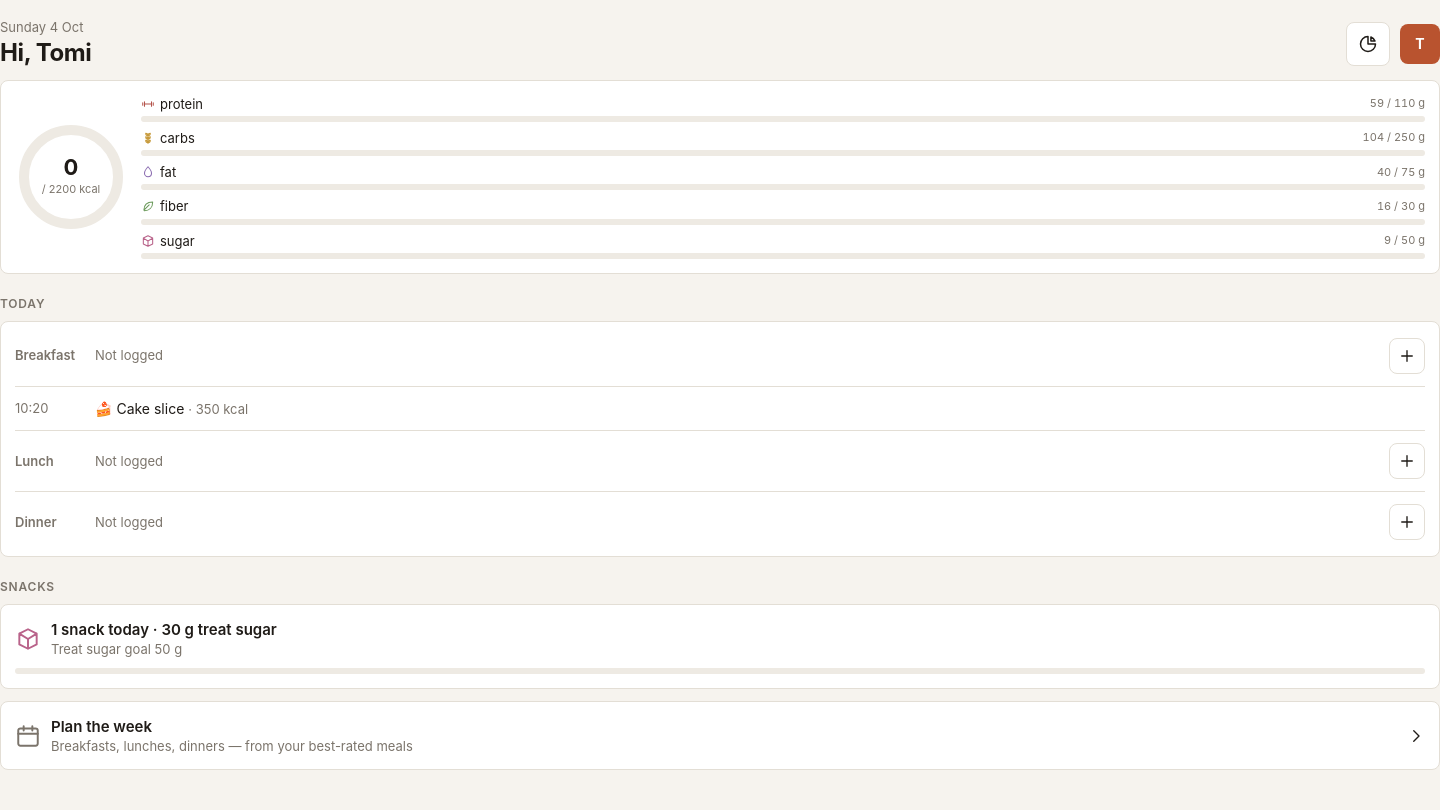
Test: HomePage › changes a logged snack's amount and values, or removes an entry
This screenshot has width=1440, height=810.
Click the button "10:20 🍰 Cake slice · 350 kcal" at (32, 408), box x1=15 y1=386 x2=1425 y2=431
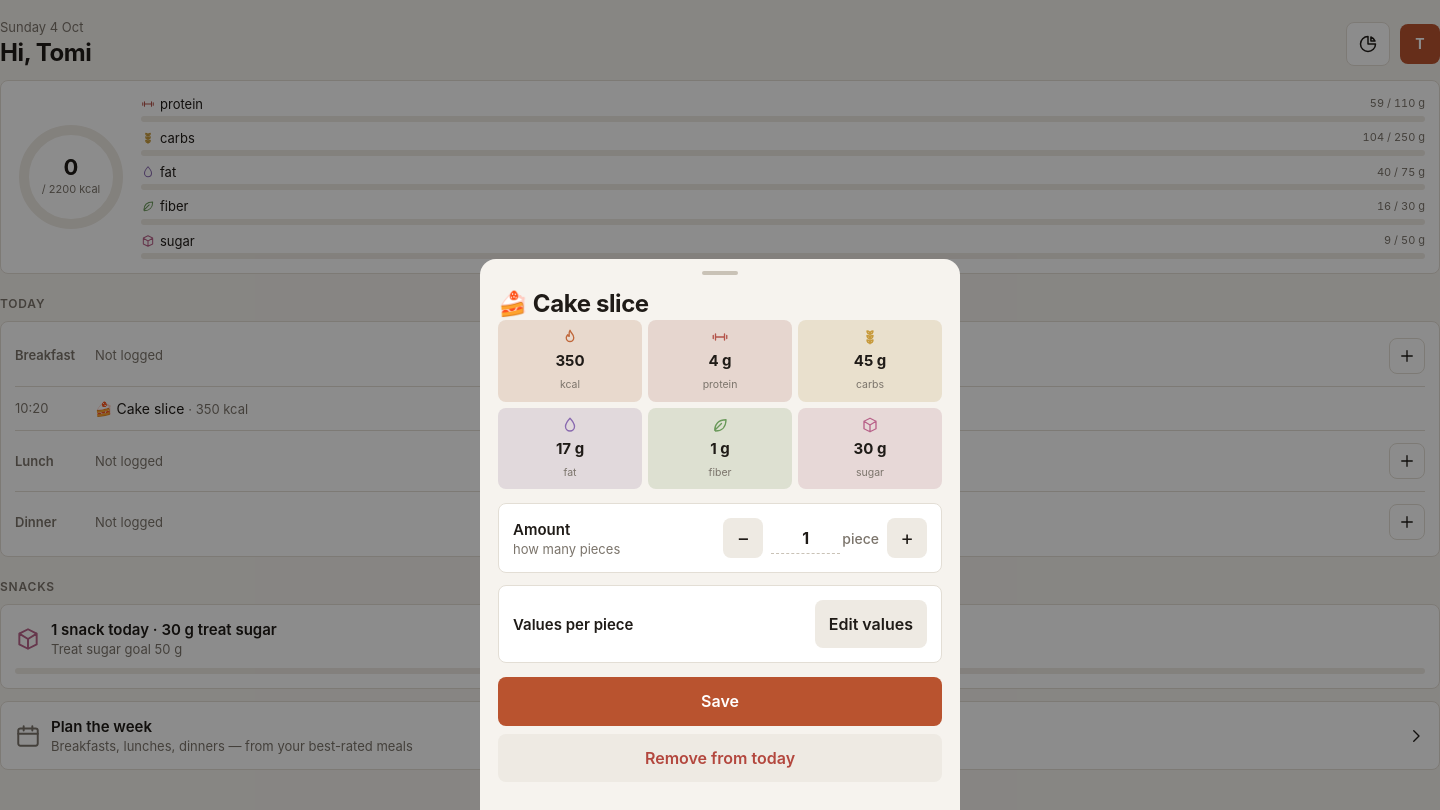
Click the button "Edit values" at (871, 624), box x1=815 y1=600 x2=927 y2=648
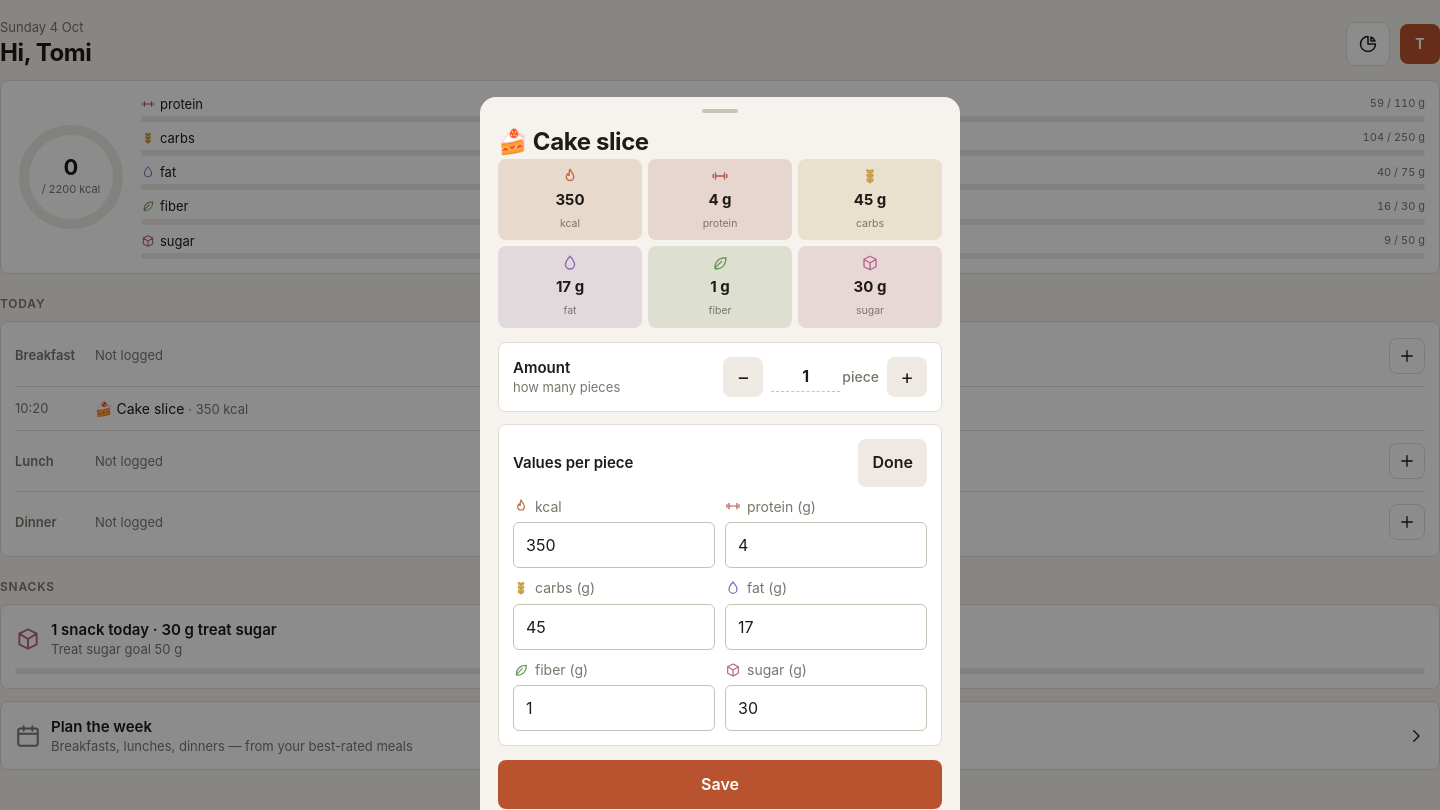
Replace the text in the field labelled "sugar (g)" with "9" at (826, 708), box x1=725 y1=685 x2=927 y2=731
Click the button "Done" at (893, 463), box x1=858 y1=439 x2=927 y2=487
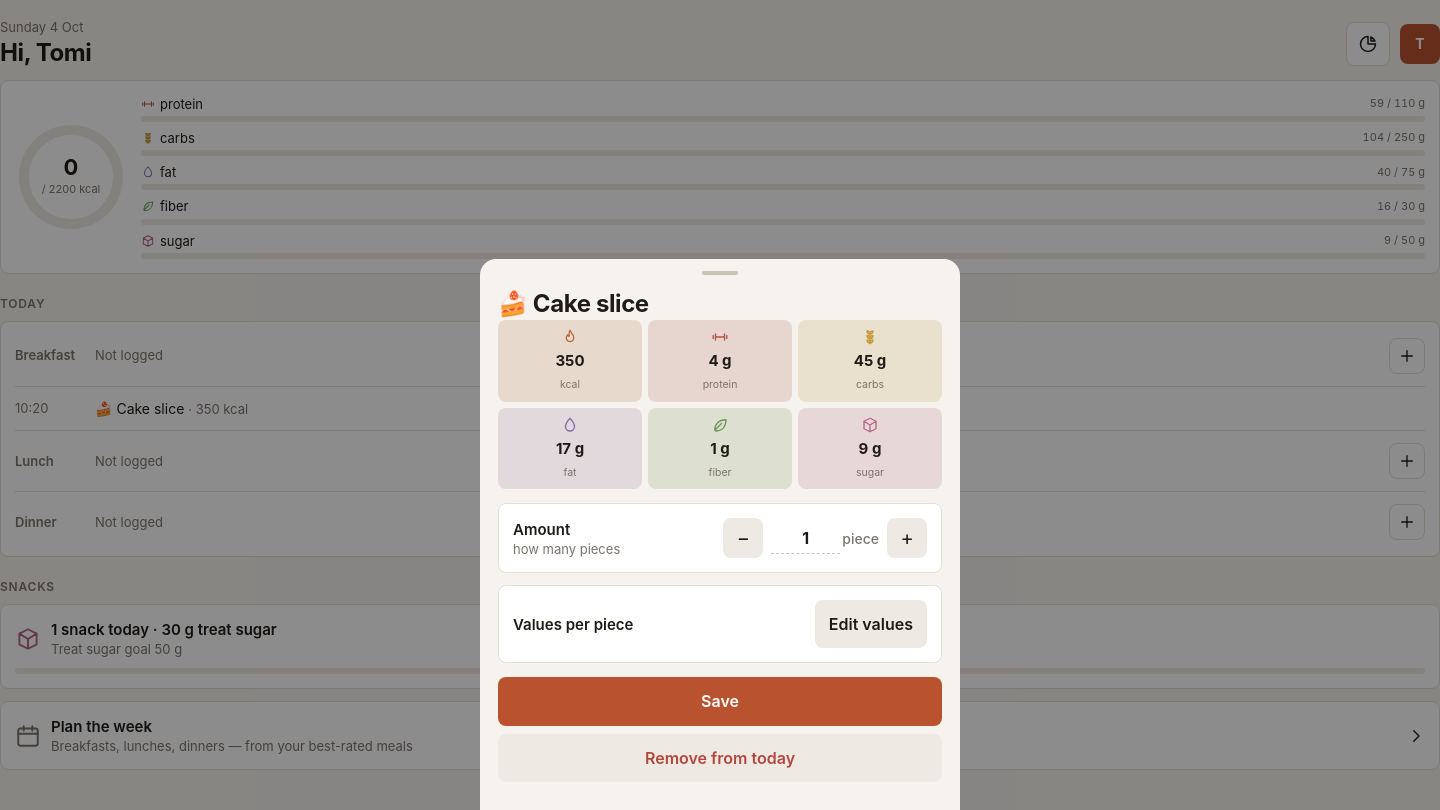
Click the button "Save" at (720, 701), box x1=498 y1=677 x2=942 y2=726
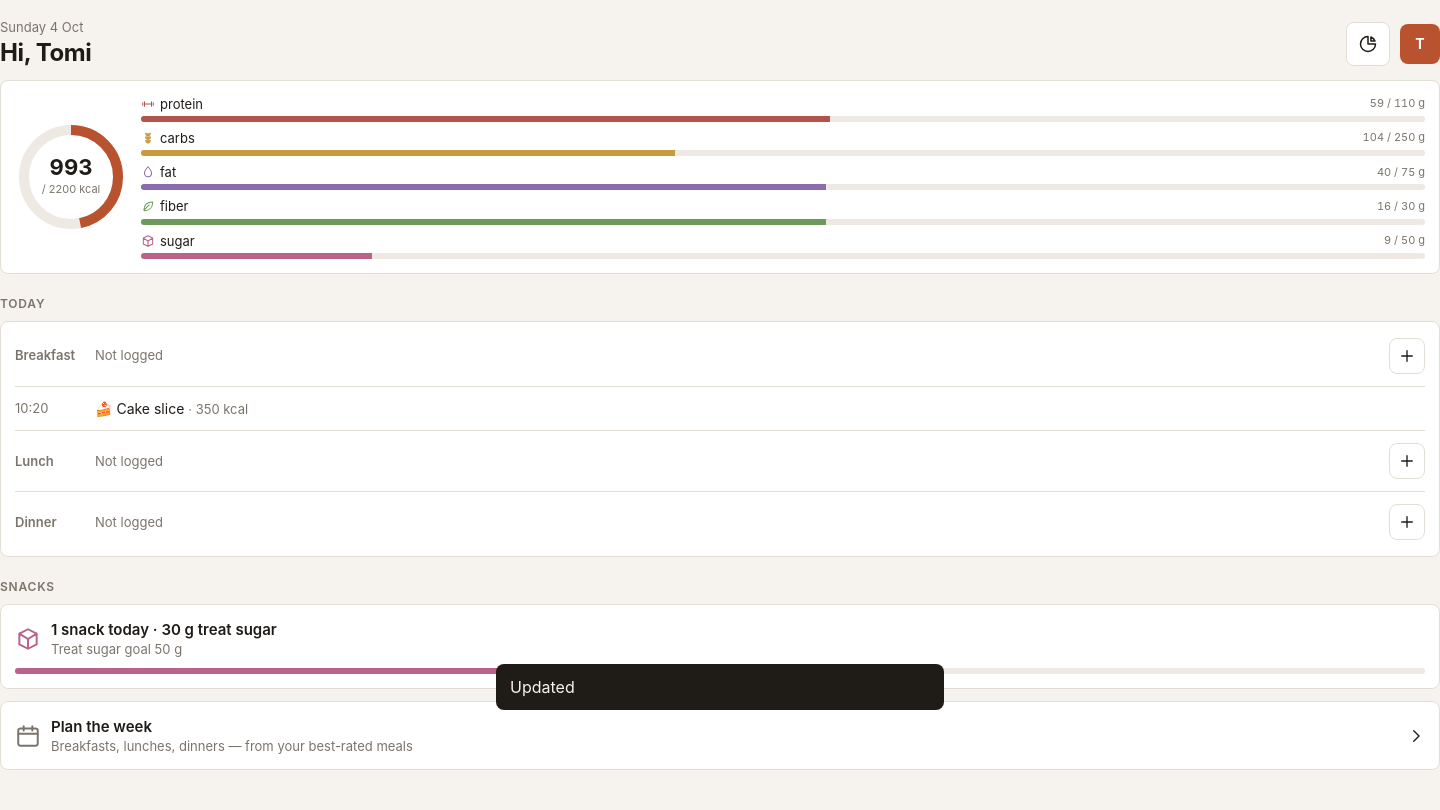
Expected: the text "Updated" is shown, x1=510 y1=677 x2=575 y2=697
Click the button "10:20 🍰 Cake slice · 350 kcal" at (32, 408), box x1=15 y1=386 x2=1425 y2=431
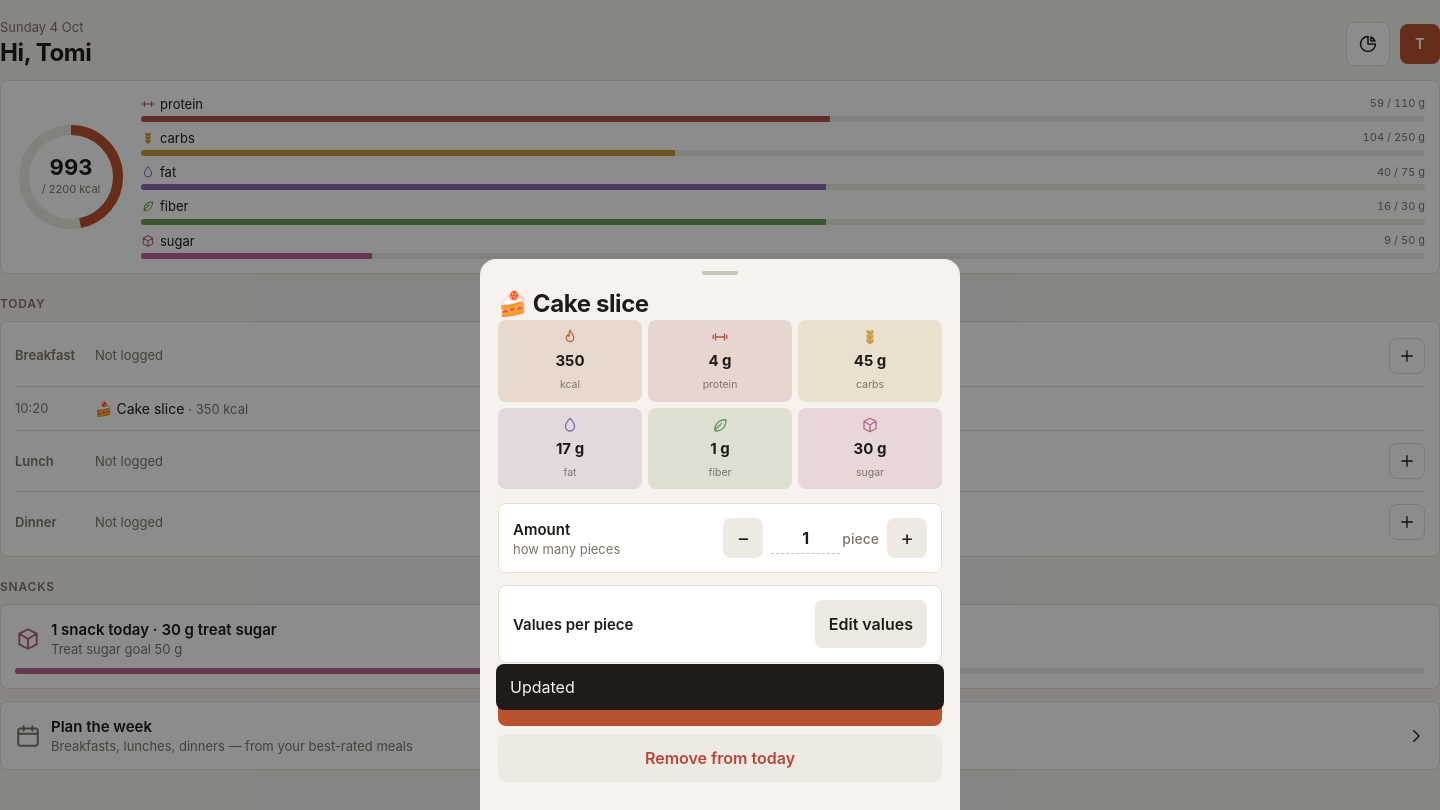
Click the button "Remove from today" at (720, 758), box x1=498 y1=734 x2=942 y2=782
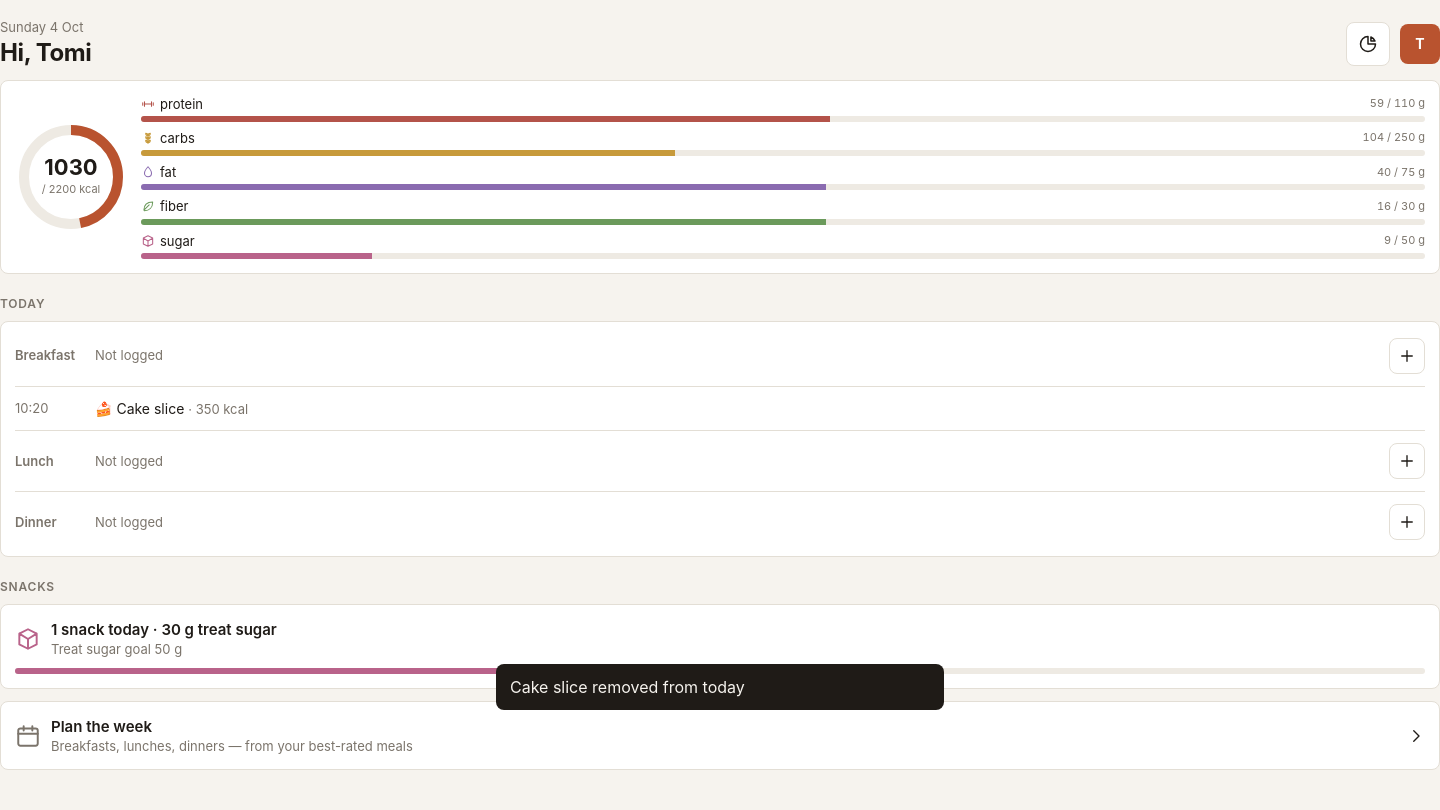
Expected: the text "Cake slice removed from today" is shown, x1=510 y1=677 x2=745 y2=697
